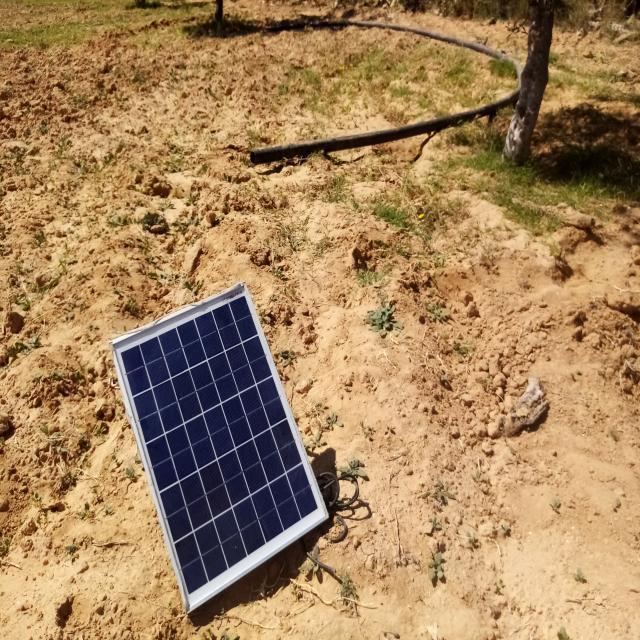no faulty: (111, 282, 328, 611)
